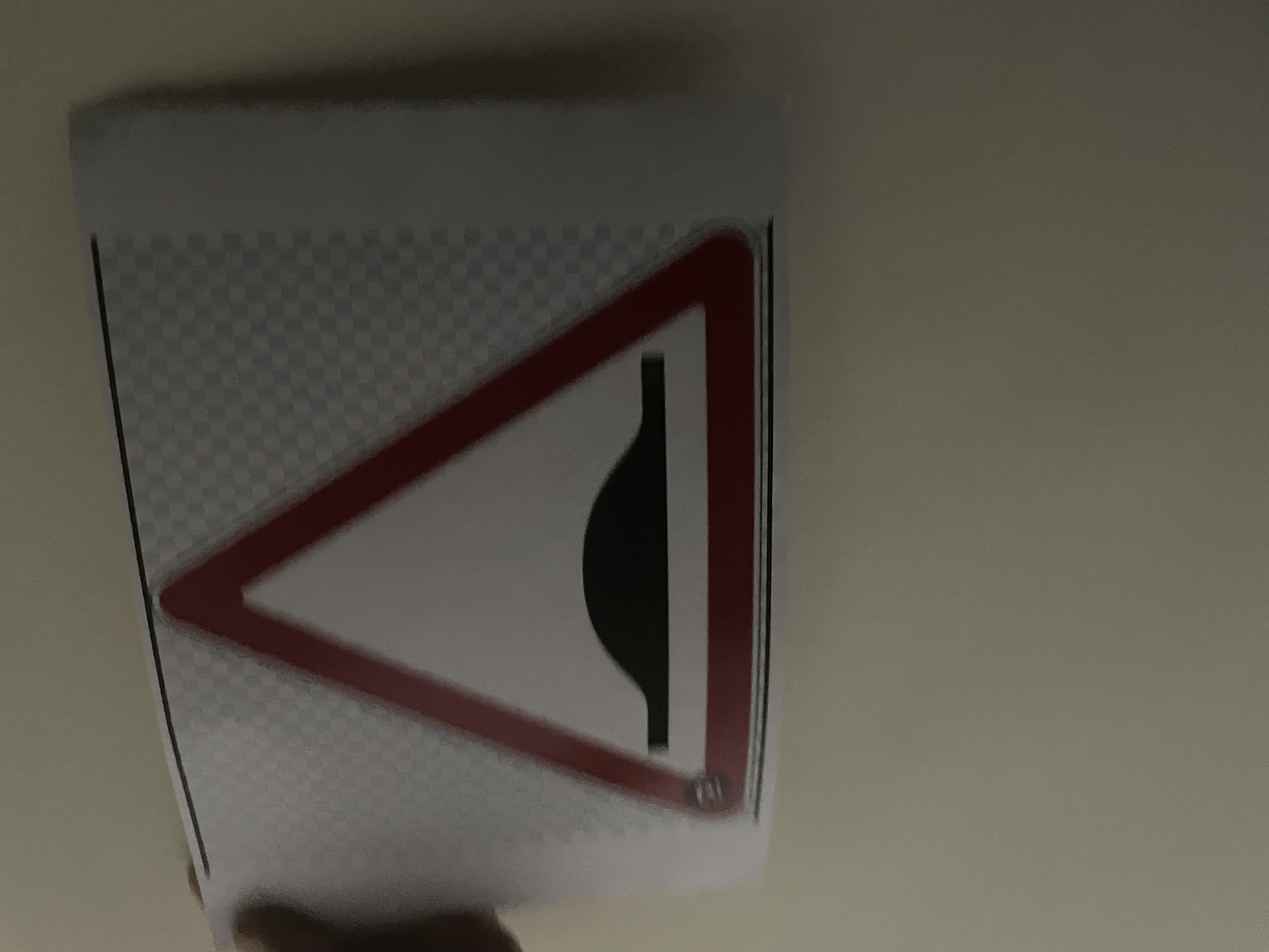Hump: (160, 114, 970, 570)
